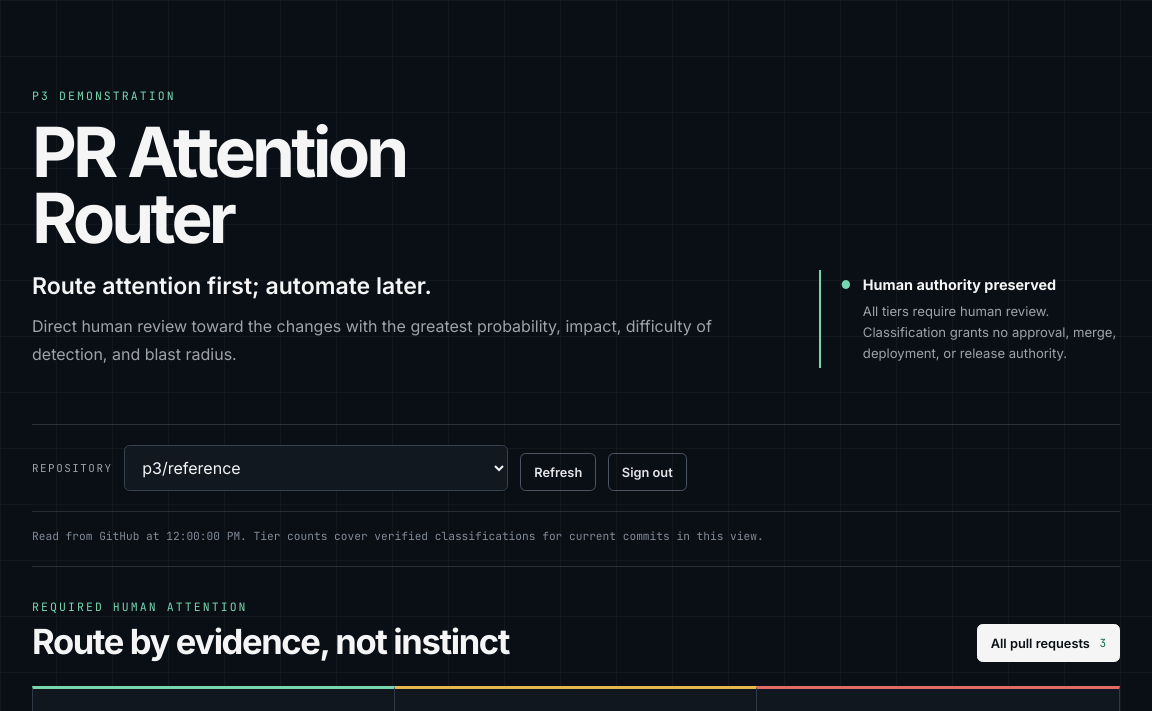
Test: live dashboard › clears private data after logout
The image size is (1152, 711).
Click the button "Sign out": [647, 472] box [608,453,686,491]
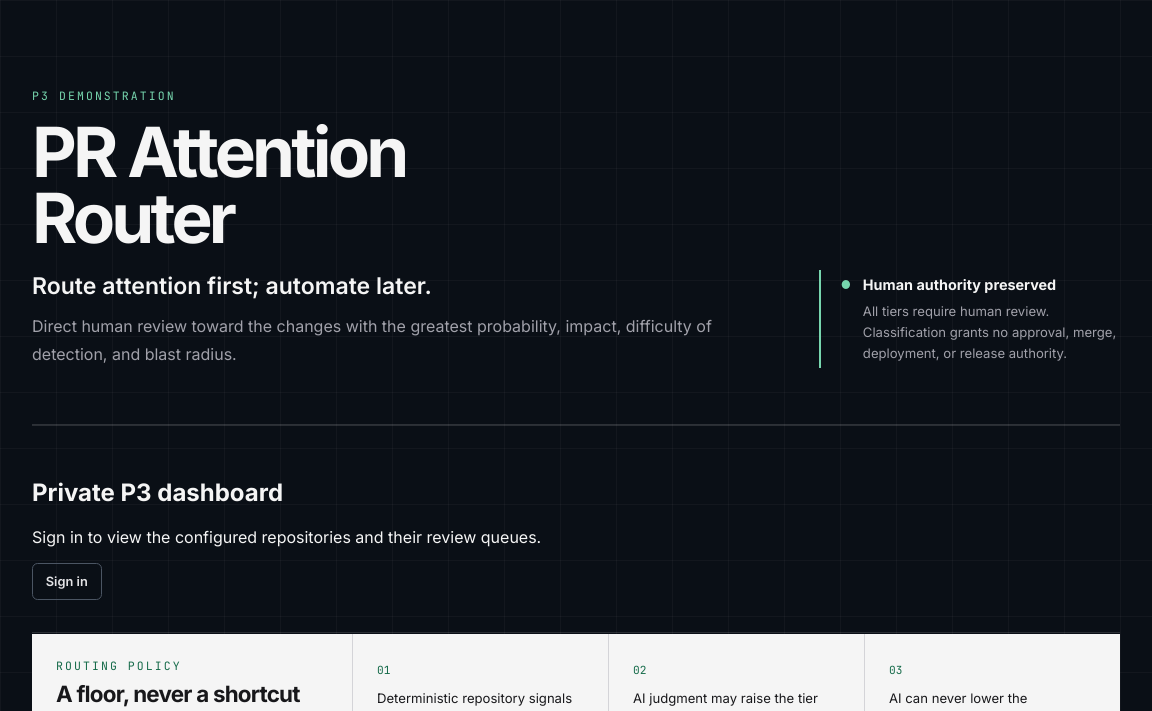
Expected: the link "Sign in" is shown, [32,562,102,600]
